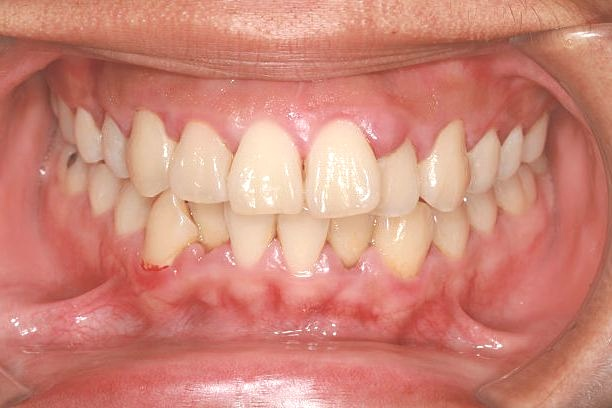Gingivitis: (176, 279, 453, 342), (138, 261, 174, 275)
